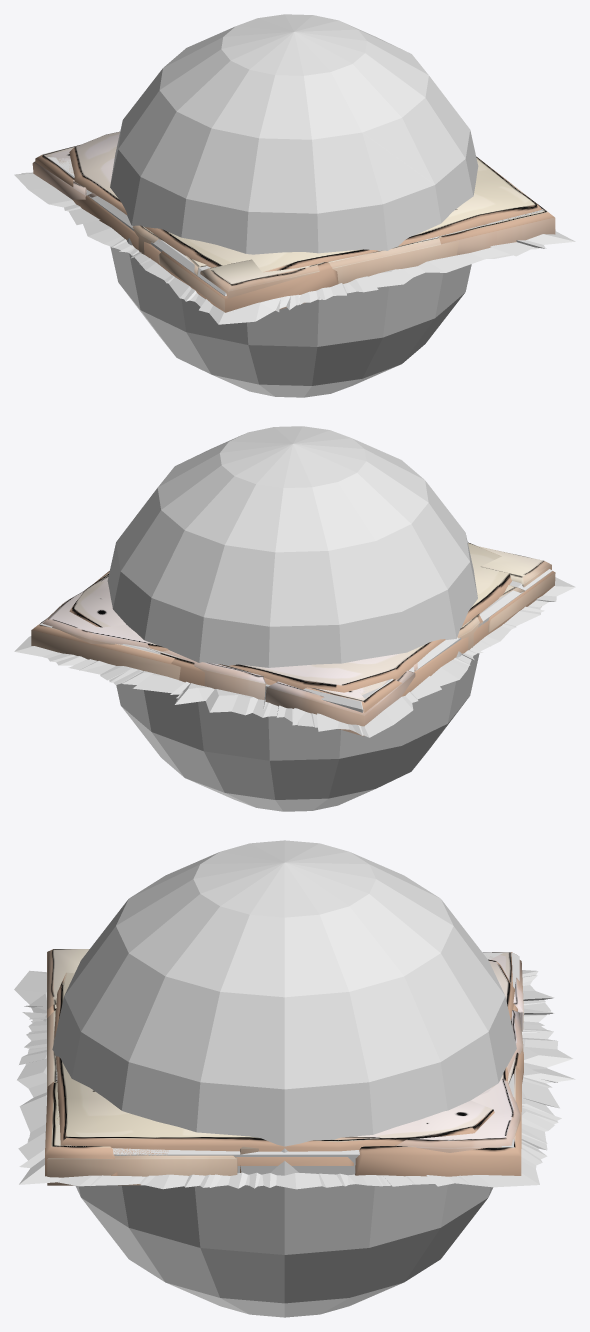
File: Grass_TileV5.fbx
3 renders of one model, top to bottom at view 1: azimuth 30°, elevation 25°; view 2: azimuth 150°, elevation 25°; view 3: azimuth 270°, elevation 25°, orthographic. The views are drawn at different scales.
Visible parts, largest first — view 1: Pea, Stone_Tile_4, Stone_Tile_1, Stone_Tile_2, Grass_Tile_1, Grass_Tile_4, Stone_Tile_3, Stone_Tile.COPY; view 2: Pea, Stone_Tile_1, Stone_Tile_4, Stone_Tile_2, Grass_Tile_4, Grass_Tile_3, Stone_Tile_3, Stone_Tile.COPY, Grass_Tile_2, Grass_Tile_1; view 3: Pea, Stone_Tile_4, Stone_Tile_1, Stone_Tile_2, Grass_Tile_1, Grass_Tile_3, Grass_Tile_4, Stone_Tile.COPY, Grass_Tile_2, Stone_Tile_3.
Boxes of the visible parts, x1,y1,x2,y2 form: Pea: (110,14,478,397); Stone_Tile_4: (69,131,542,272); Stone_Tile_1: (32,161,458,298); Stone_Tile_2: (35,145,555,311); Grass_Tile_1: (68,208,575,311); Grass_Tile_4: (14,173,555,324); Stone_Tile_3: (56,157,544,312); Stone_Tile.COPY: (37,147,544,295); Pea: (107,426,479,811); Stone_Tile_1: (42,546,551,736); Stone_Tile_4: (69,542,511,692); Stone_Tile_2: (31,585,554,712); Grass_Tile_4: (14,577,575,737); Grass_Tile_3: (56,595,556,729); Stone_Tile_3: (146,571,555,694); Stone_Tile.COPY: (40,569,552,712); Grass_Tile_2: (48,650,476,735); Grass_Tile_1: (68,600,548,726); Pea: (52,840,516,1317); Stone_Tile_4: (54,959,514,1151); Stone_Tile_1: (47,949,523,1185); Stone_Tile_2: (45,952,522,1176); Grass_Tile_1: (17,979,561,1189); Grass_Tile_3: (22,985,575,1188); Grass_Tile_4: (14,970,539,1189); Stone_Tile.COPY: (56,953,519,1175); Grass_Tile_2: (27,975,554,1165); Stone_Tile_3: (47,956,523,1155).
Bounding box in the file's own units: 221 × 200 × 235.
